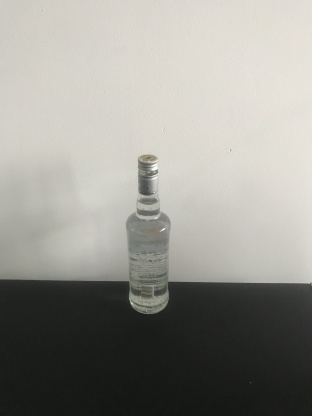nakretka: (136, 153, 159, 194)
